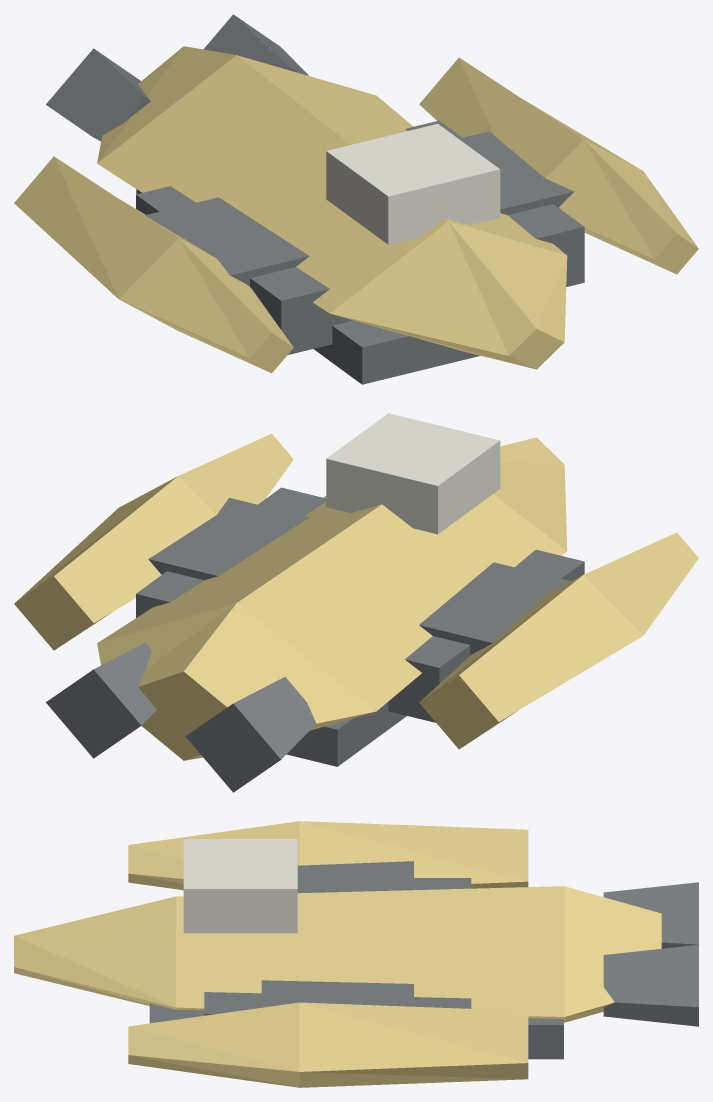
3 views of the same model, one above another, from view 1: azimuth 30°, elevation 25°; view 2: azimuth 150°, elevation 25°; view 3: azimuth 270°, elevation 25° (orthographic). The views are drawn at different scales.
Size of the model in its own units: 5.31 by 1.67 by 6.54.
